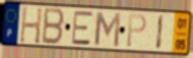B: (40, 6, 66, 47)
E: (71, 11, 94, 47)
H: (18, 5, 44, 45)
I: (155, 13, 166, 52)
M: (94, 10, 122, 49)
P: (126, 14, 148, 49)
